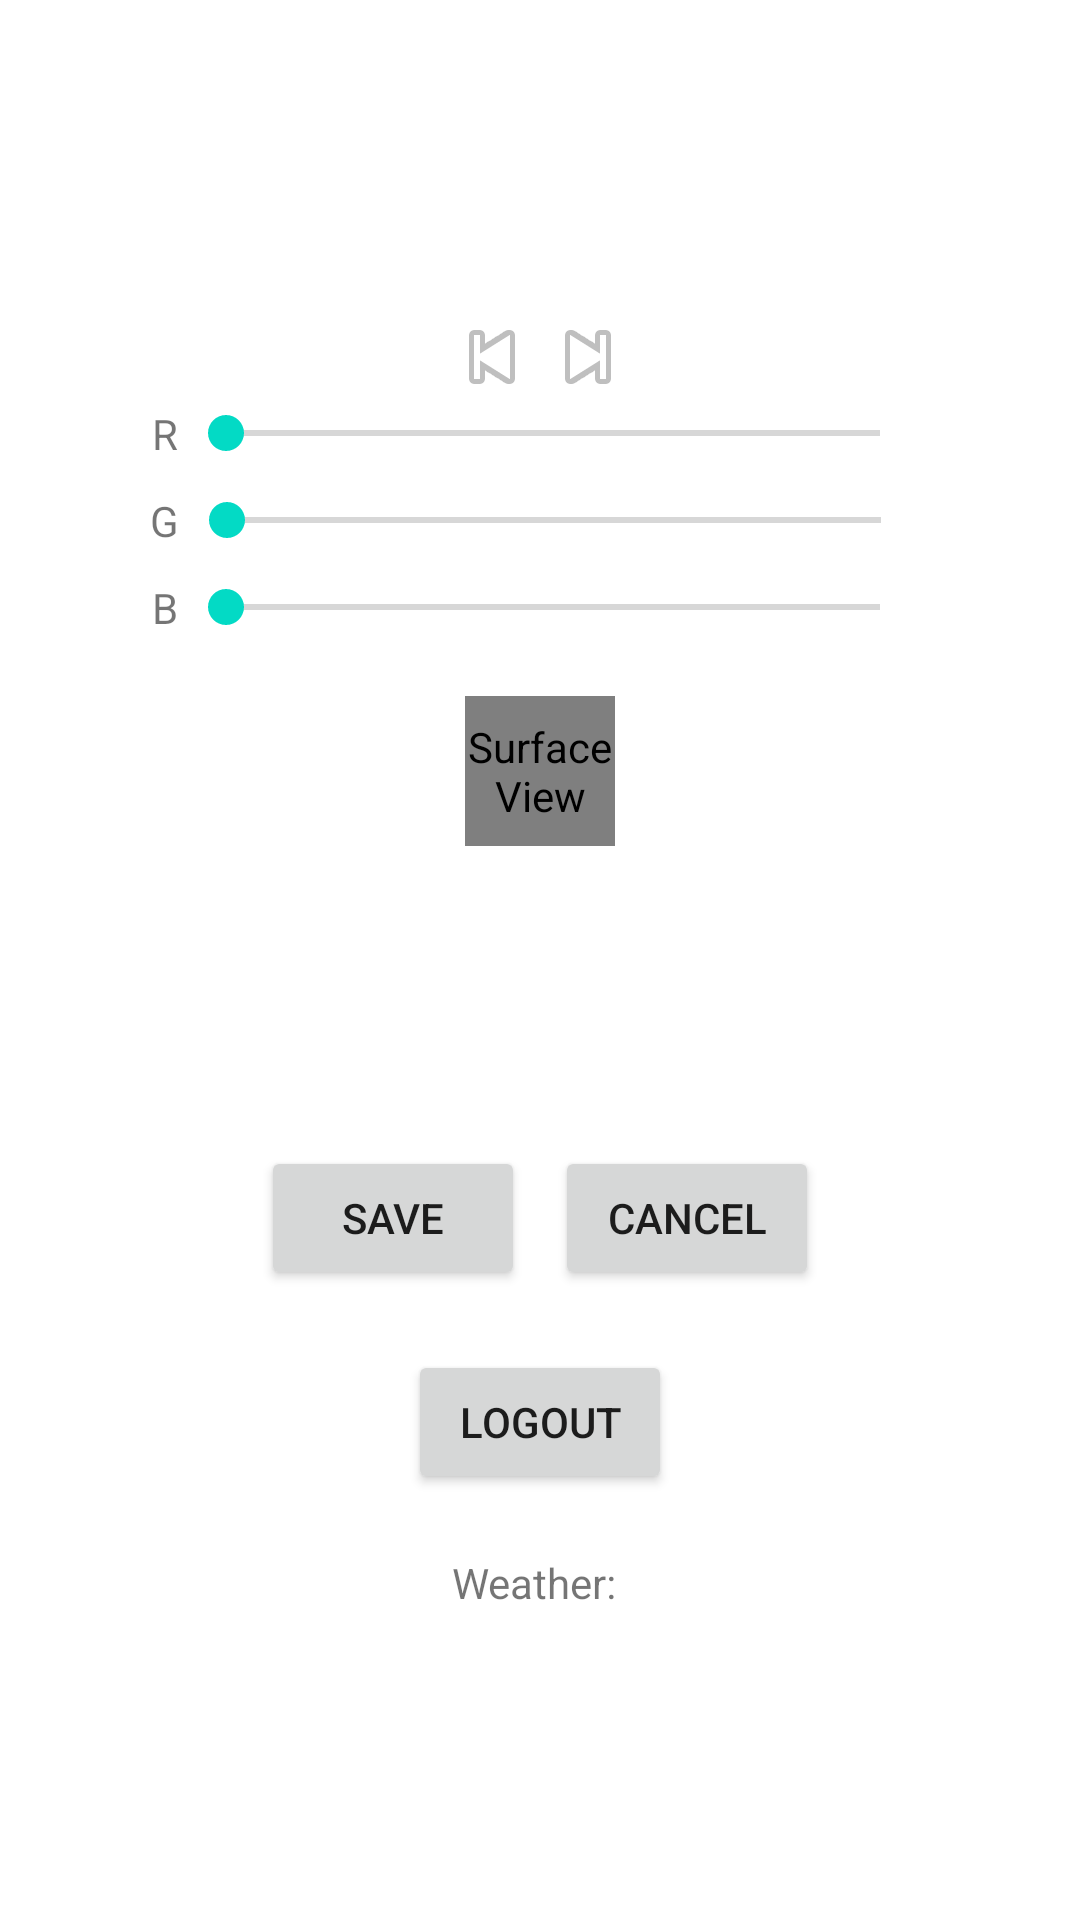

Named icons in this screenshot (1080 x 1920) and their bounding boxes, (x1, y1, x2, y2):
next: (565, 330, 611, 384)
previous: (469, 330, 515, 384)
